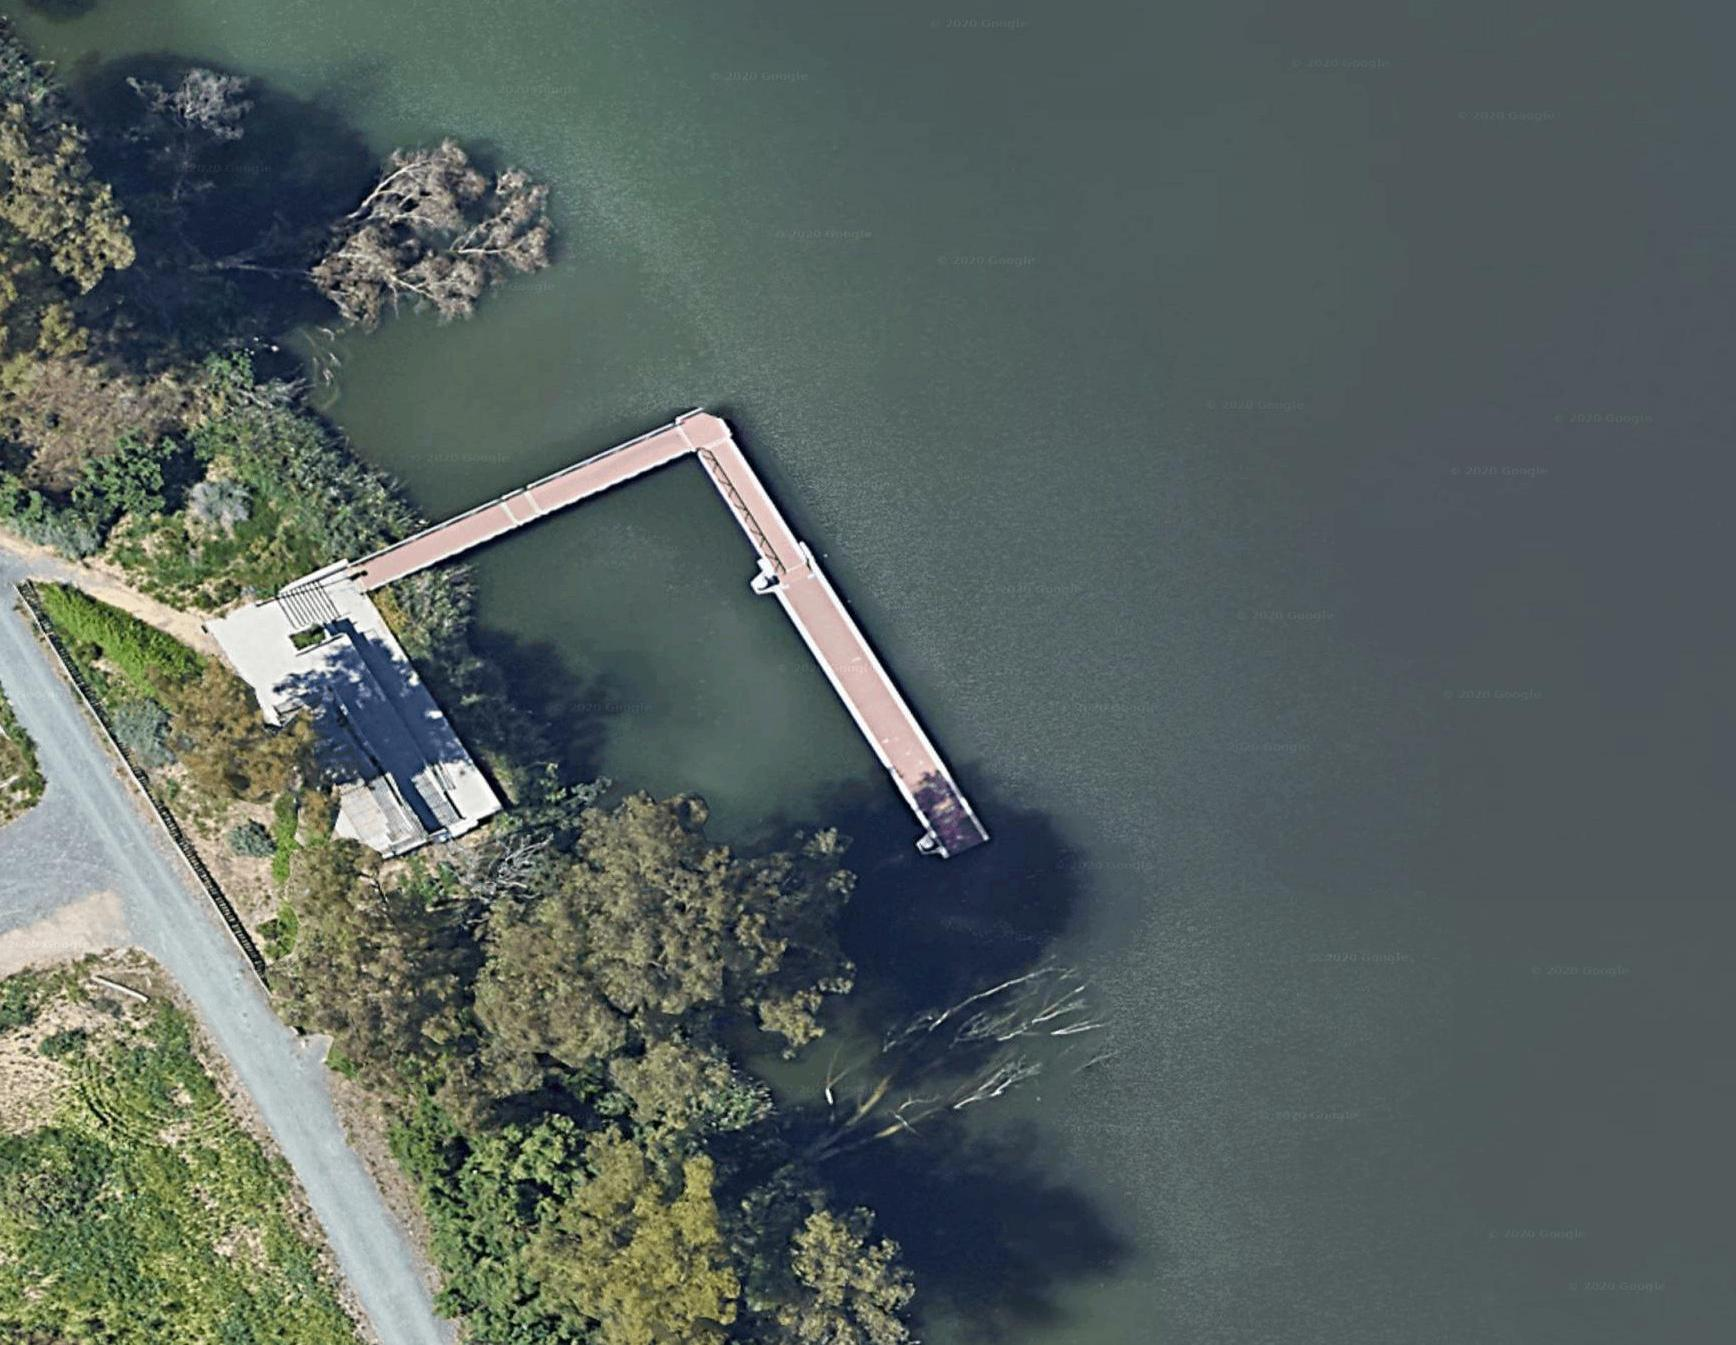harbor: (366, 375, 979, 892)
